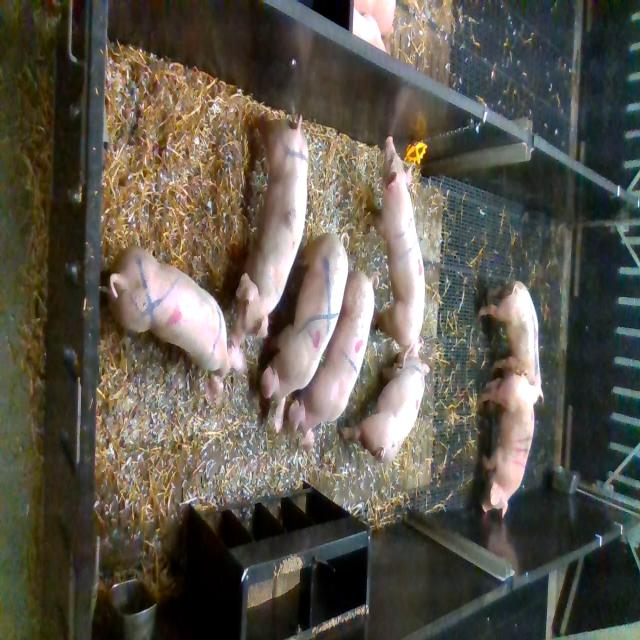pig: (107, 246, 248, 404), (227, 113, 309, 352), (260, 233, 349, 434), (287, 270, 379, 454), (366, 136, 425, 369), (338, 342, 431, 463), (479, 281, 544, 406), (480, 369, 534, 518)
